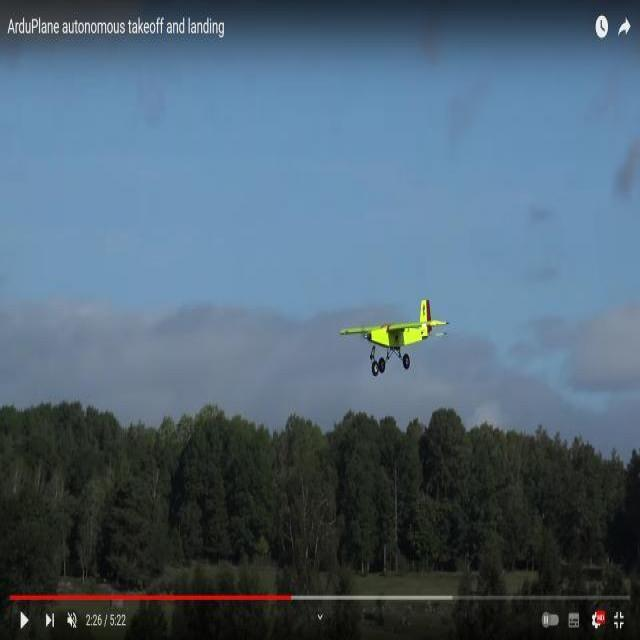UAV: (350, 300, 450, 378)
